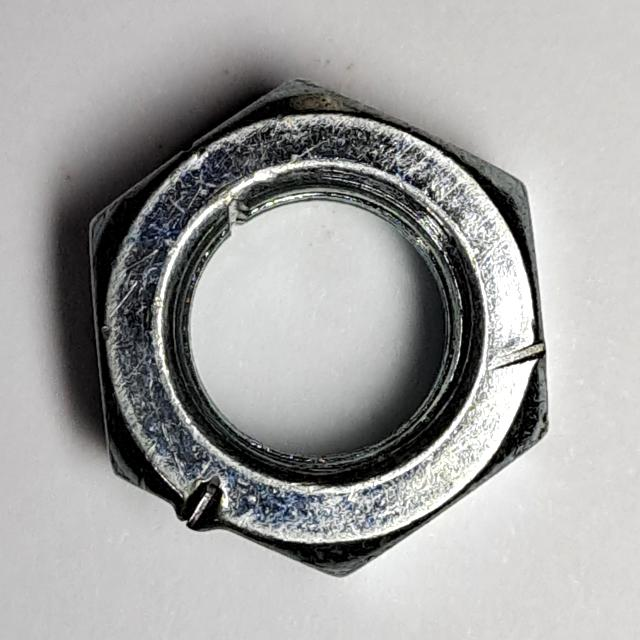Scratches: (83, 64, 564, 590)
